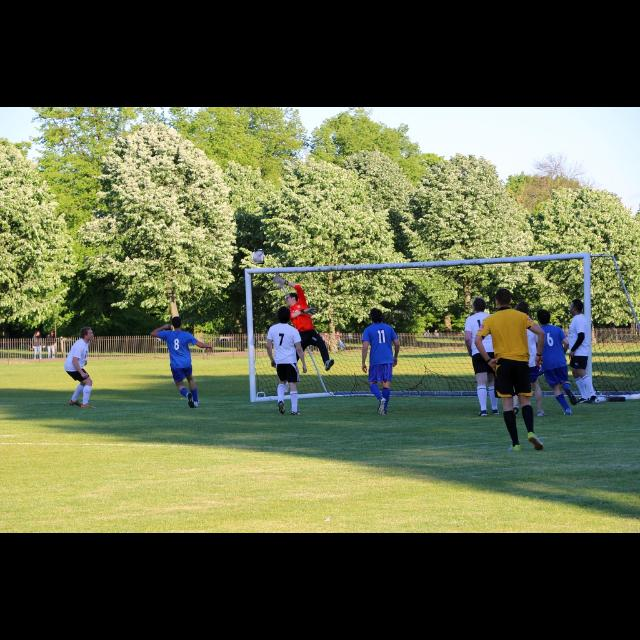Football: (252, 250, 264, 264)
